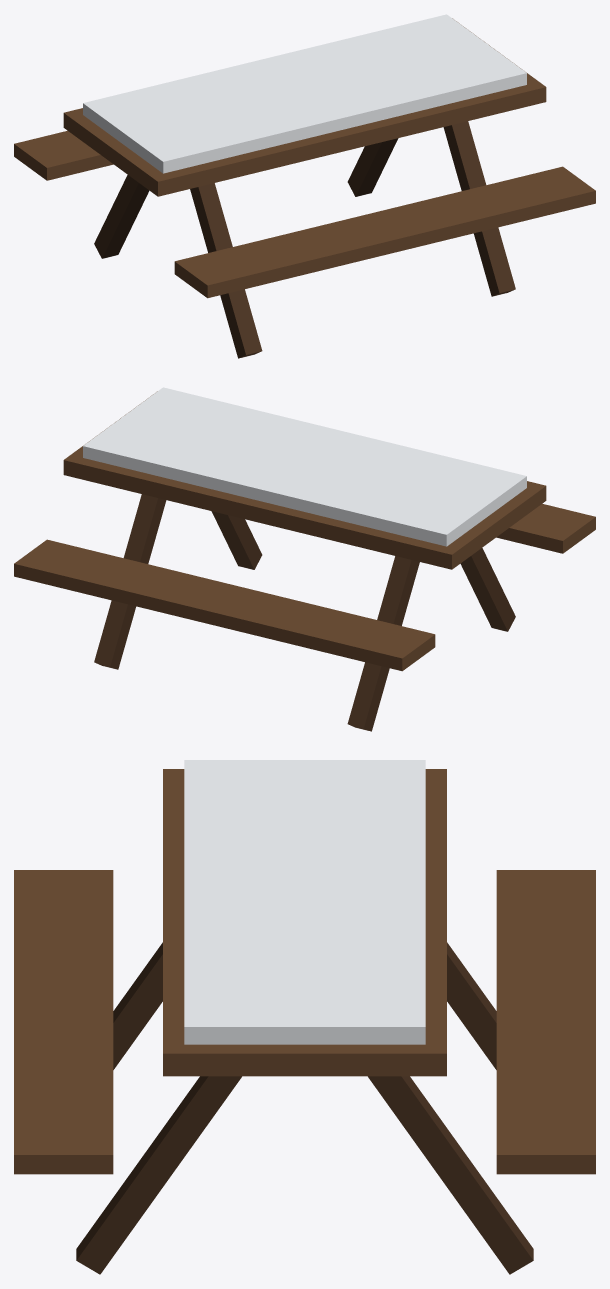
The model's file is picnic-table.glb.
3 renders of one model, top to bottom at view 1: azimuth 30°, elevation 25°; view 2: azimuth 150°, elevation 25°; view 3: azimuth 270°, elevation 25°, orthographic. The views are drawn at different scales.
Visible parts, largest first — view 1: picnic-table; view 2: picnic-table; view 3: picnic-table.
Part boxes in pixels (bbox=[...]): picnic-table: bbox=[14, 14, 595, 358]; picnic-table: bbox=[14, 387, 595, 731]; picnic-table: bbox=[14, 760, 595, 1274].
Bounding box in the file's own units: 1.9 × 0.8775 × 1.64.
